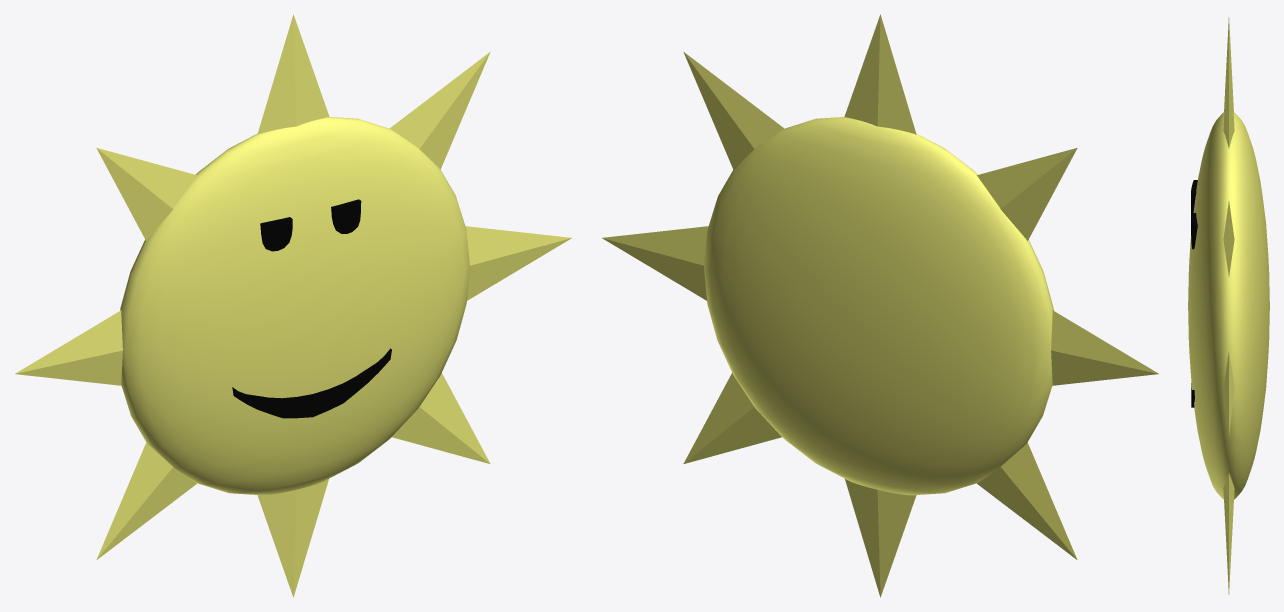
File: sun.fbx
The picture shows the model from 3 angles, left to right: view 1: azimuth 30°, elevation 25°; view 2: azimuth 150°, elevation 25°; view 3: azimuth 270°, elevation 25°; orthographic projection. The views are drawn at different scales.
Visible parts, largest first — view 1: Sphere, Rays, Mouth, Left Eye, Right Eye; view 2: Sphere, Rays; view 3: Sphere, Rays, Right Eye, Left Eye.
Boxes of the visible parts, x1,y1,x2,y2 form: Sphere: (120, 117, 469, 495); Rays: (15, 14, 571, 597); Mouth: (232, 348, 391, 418); Left Eye: (260, 217, 292, 251); Right Eye: (331, 199, 361, 233); Sphere: (704, 117, 1053, 495); Rays: (602, 14, 1158, 597); Sphere: (1188, 112, 1269, 499); Rays: (1223, 17, 1234, 594); Right Eye: (1191, 213, 1197, 249); Left Eye: (1191, 180, 1197, 212).
Bounding box in the file's own units: 560 × 560 × 73.73.
